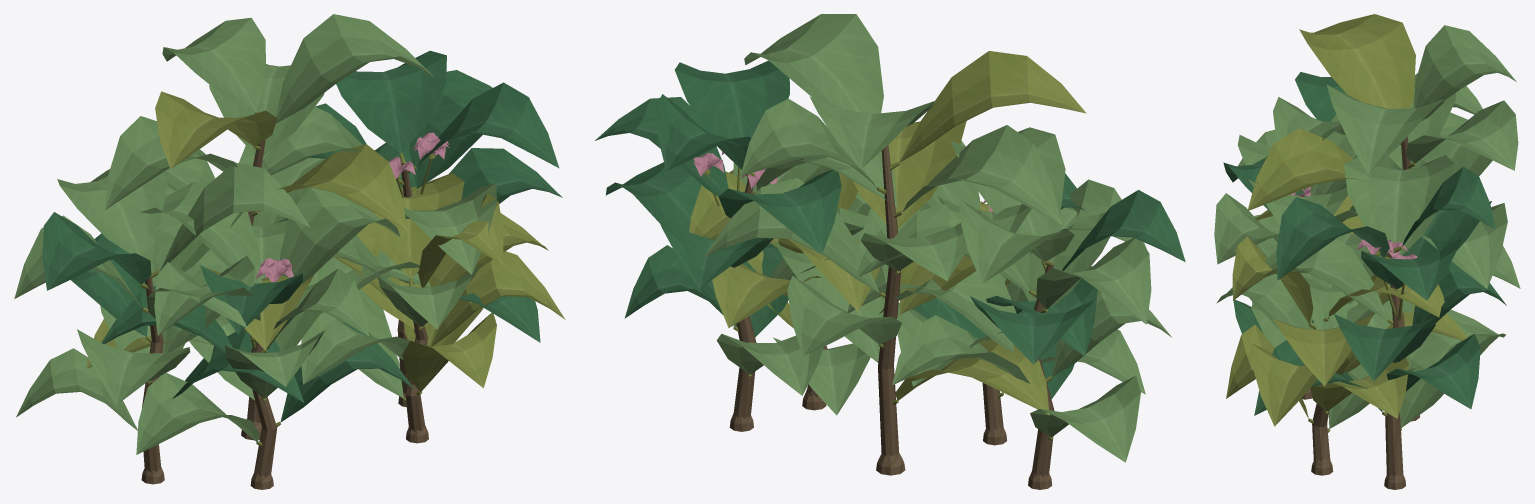
File: AST-BOT-002_pool_loggia_mass_03.glb
3 views of the same model, side by side, from view 1: azimuth 30°, elevation 25°; view 2: azimuth 150°, elevation 25°; view 3: azimuth 270°, elevation 25° (orthographic). The views are drawn at different scales.
Visible parts, largest first — view 1: AST-BOT-002_pool_loggia_mass_03; view 2: AST-BOT-002_pool_loggia_mass_03; view 3: AST-BOT-002_pool_loggia_mass_03.
Boxes of the visible parts, x1,y1,x2,y2 form: AST-BOT-002_pool_loggia_mass_03: (14, 14, 565, 489); AST-BOT-002_pool_loggia_mass_03: (595, 14, 1185, 489); AST-BOT-002_pool_loggia_mass_03: (1214, 14, 1520, 489).
Bounding box in the file's own units: 2.25 × 1.55 × 1.18.
5 materials, 5 textured.
